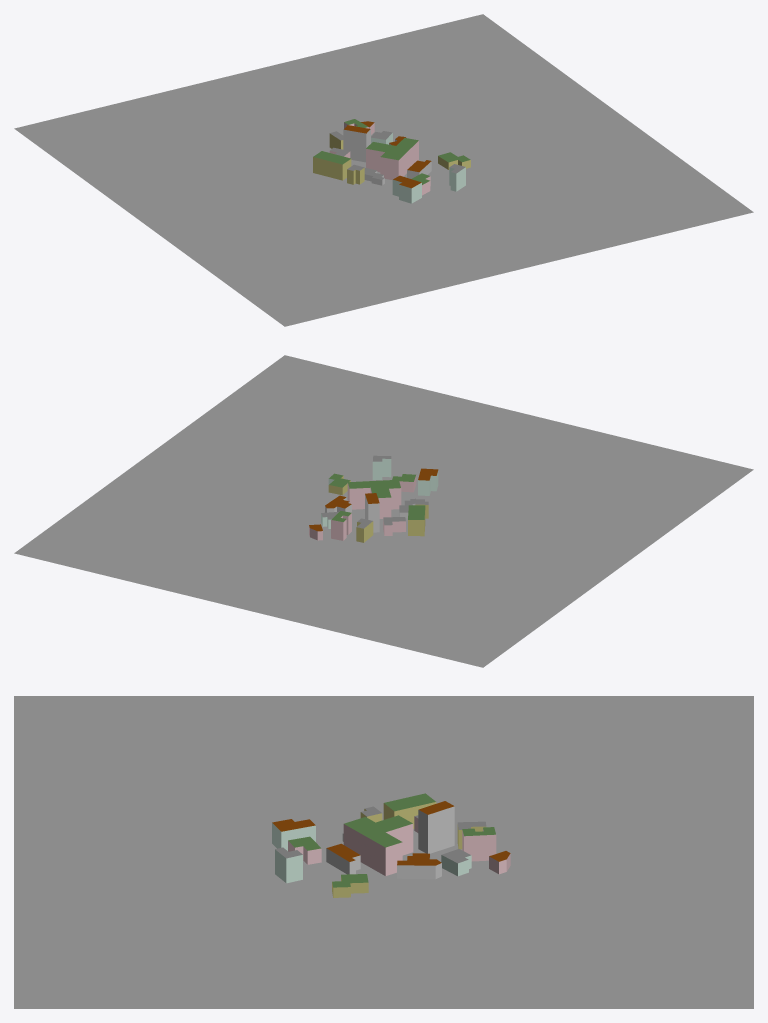
3 views of the same model, one above another, from view 1: azimuth 30°, elevation 25°; view 2: azimuth 150°, elevation 25°; view 3: azimuth 270°, elevation 25° (orthographic). The views are drawn at different scales.
Parts seen in each view (by area): view 1: 0; view 2: 0; view 3: 0.
Boxes of the visible parts, x1=… form: 0: x1=14, y1=14, x2=753, y2=326; 0: x1=14, y1=355, x2=753, y2=667; 0: x1=14, y1=696, x2=753, y2=1008.
Size of the model in its own units: 351 by 20.7 by 351.
